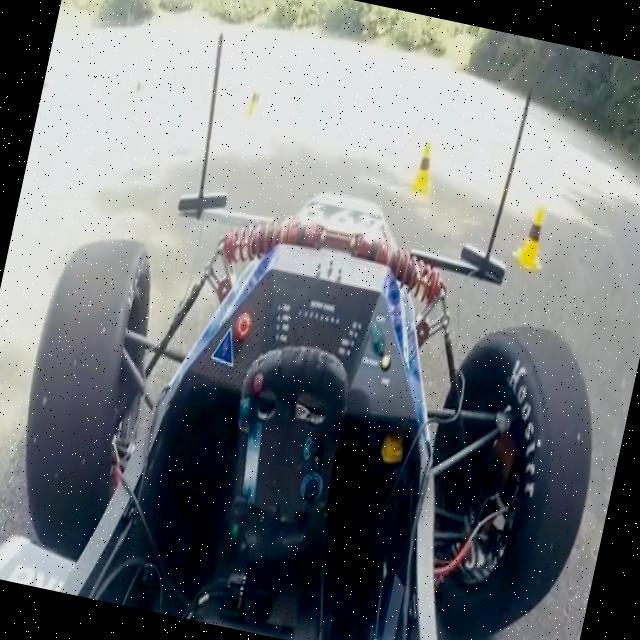yellow_cone: (510, 193, 554, 270), (406, 136, 440, 197), (122, 74, 154, 136), (241, 83, 267, 134), (34, 76, 56, 130)
